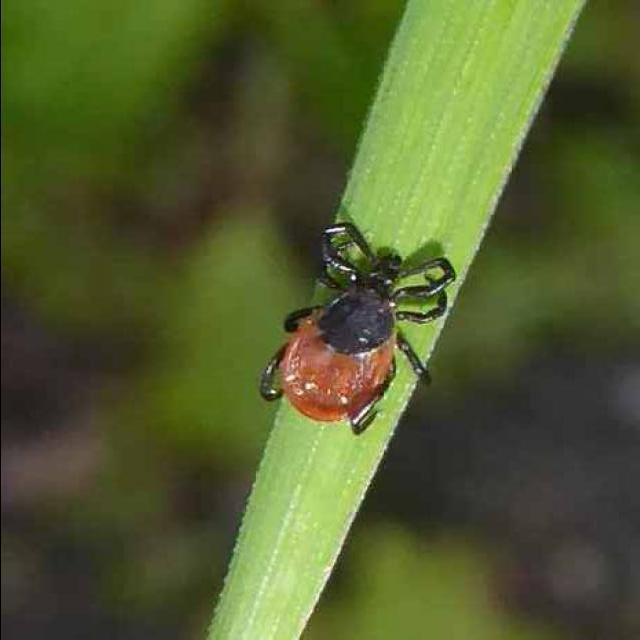Ixodes Ricinus-F: (256, 220, 454, 434)
